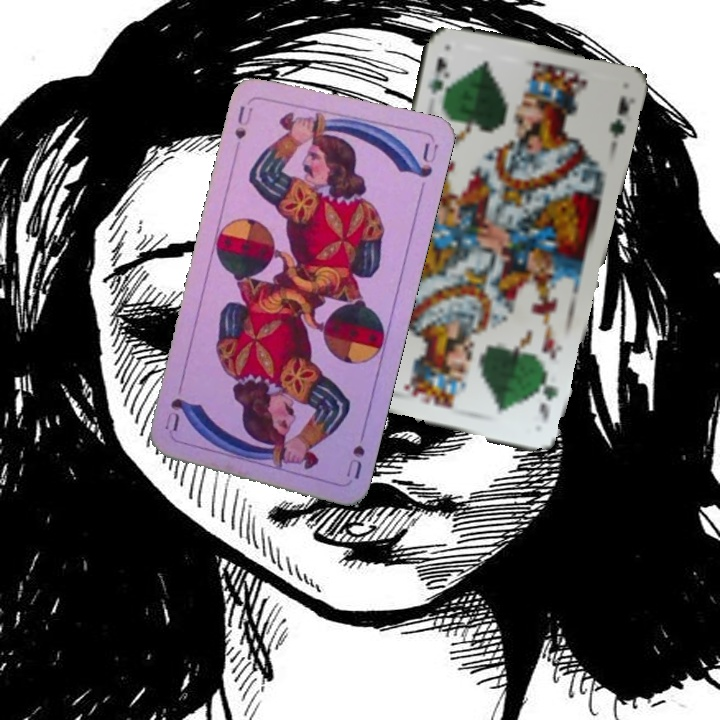GK: (535, 369, 561, 426), (423, 53, 451, 97)
SU: (230, 95, 256, 142), (342, 441, 368, 482)
